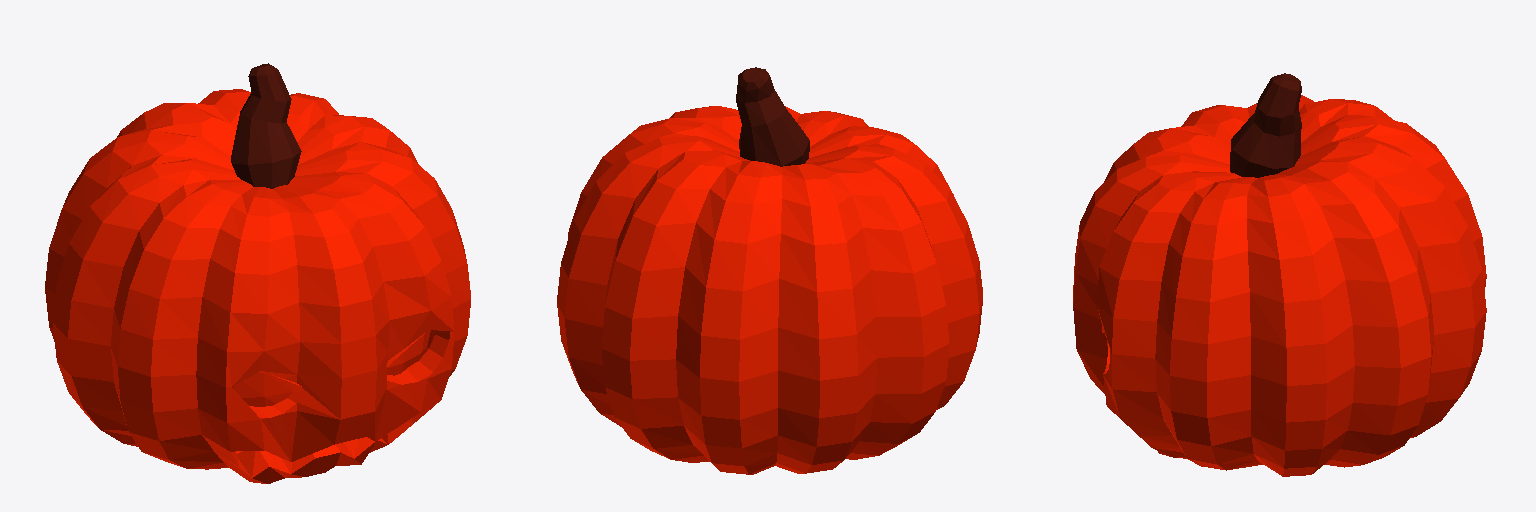
The model's file is character_jackHat.obj.
3 renders of one model, left to right at view 1: azimuth 30°, elevation 25°; view 2: azimuth 150°, elevation 25°; view 3: azimuth 270°, elevation 25°, orthographic.
Parts seen in each view (by area): view 1: character_jackHat_Sphere.001; view 2: character_jackHat_Sphere.001; view 3: character_jackHat_Sphere.001.
Boxes of the visible parts, x1=… form: character_jackHat_Sphere.001: x1=45, y1=63, x2=470, y2=483; character_jackHat_Sphere.001: x1=557, y1=67, x2=982, y2=474; character_jackHat_Sphere.001: x1=1073, y1=73, x2=1486, y2=476.
Size of the model in its own units: 1.34 by 1.29 by 1.3.